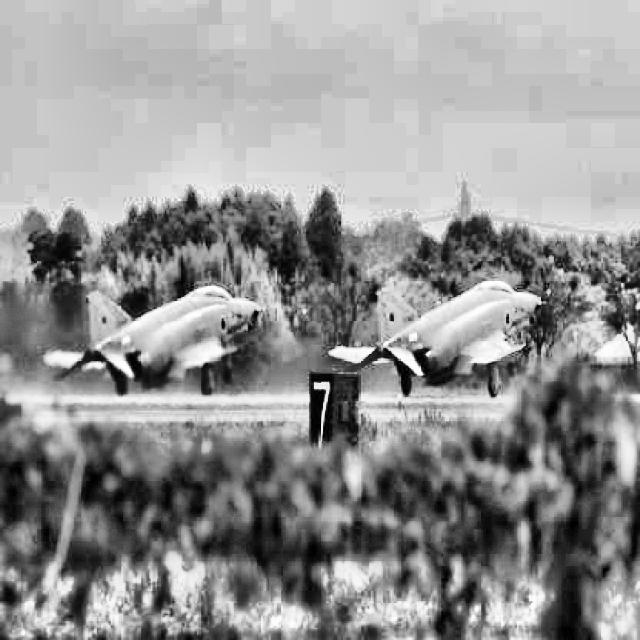F4: (328, 279, 547, 398), (45, 286, 266, 394)
